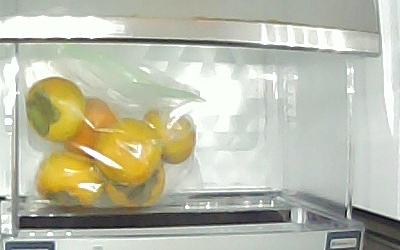persimmon_vinyl: (95, 119, 163, 189), (25, 77, 87, 143), (34, 151, 104, 209), (145, 109, 196, 165), (65, 98, 116, 153), (106, 165, 166, 207)
